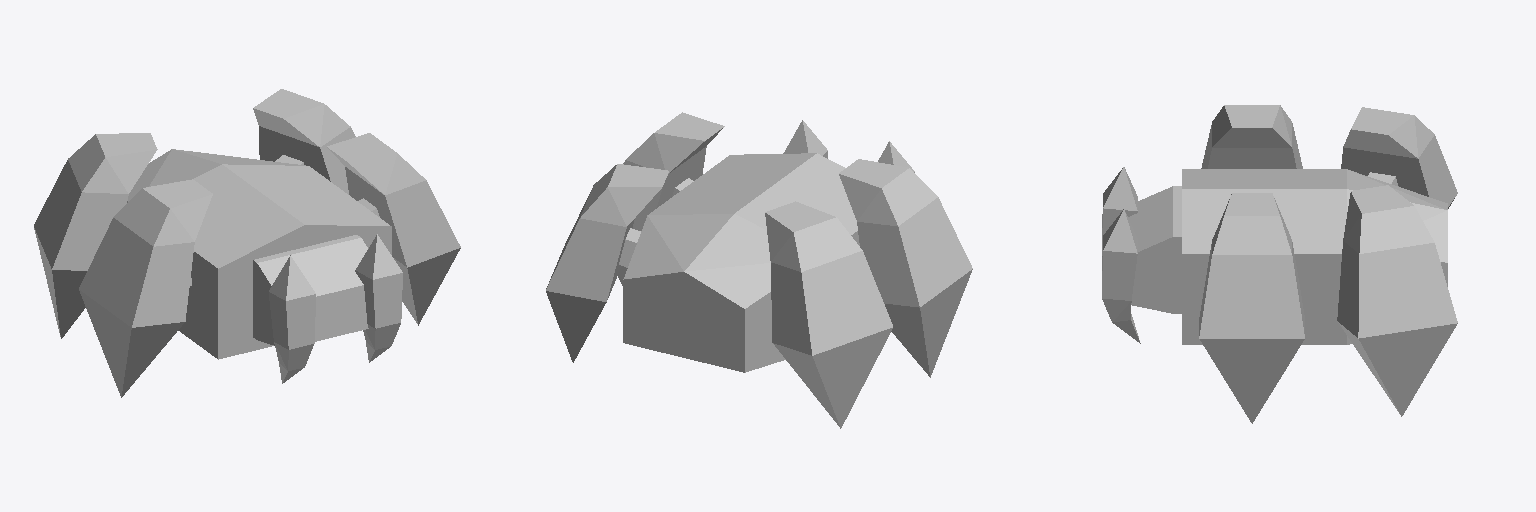
File: gorgomite.obj
The picture shows the model from 3 angles: view 1: azimuth 30°, elevation 25°; view 2: azimuth 150°, elevation 25°; view 3: azimuth 270°, elevation 25°; orthographic projection.
Visible parts, largest first — view 1: Body, FrontRightLeg, BackRightLeg, FrontLeftLeg, Head, BackLeftLeg, RightMouth, LeftMouth; view 2: Body, BackRightLeg, FrontRightLeg, BackLeftLeg, FrontLeftLeg, LeftMouth; view 3: BackLeftLeg, Body, FrontLeftLeg, BackRightLeg, Head, FrontRightLeg, LeftMouth, RightMouth.
Boxes of the visible parts, box(x1,y1,x2,y2) form: Body: box(127, 149, 391, 359); FrontRightLeg: box(79, 179, 212, 397); BackRightLeg: box(34, 133, 157, 338); FrontLeftLeg: box(327, 133, 460, 325); Head: box(253, 235, 368, 345); BackLeftLeg: box(253, 89, 355, 194); RightMouth: box(269, 255, 315, 383); LeftMouth: box(355, 234, 402, 362); Body: box(623, 153, 859, 372); BackRightLeg: box(765, 201, 892, 428); FrontRightLeg: box(839, 159, 972, 377); BackLeftLeg: box(546, 164, 668, 362); FrontLeftLeg: box(618, 112, 724, 285); LeftMouth: box(783, 120, 827, 158); BackLeftLeg: box(1337, 185, 1457, 416); Body: box(1182, 169, 1447, 344); FrontLeftLeg: box(1199, 193, 1304, 423); BackRightLeg: box(1341, 107, 1457, 208); Head: box(1128, 186, 1181, 313); FrontRightLeg: box(1201, 105, 1302, 168); LeftMouth: box(1102, 209, 1140, 343); RightMouth: box(1102, 167, 1137, 256).
Size of the model in its own units: 1.52 by 0.844 by 1.42.